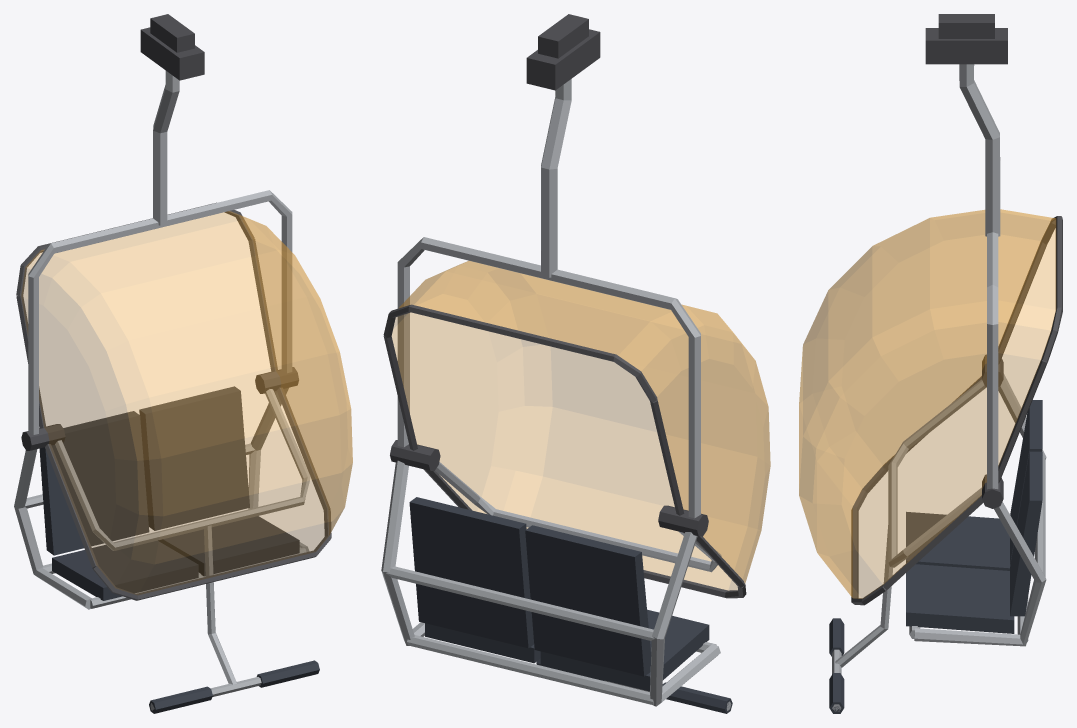
The model's file is chairlift-2.glb.
3 views of the same model, side by side, from view 1: azimuth 30°, elevation 25°; view 2: azimuth 150°, elevation 25°; view 3: azimuth 270°, elevation 25° (orthographic). The views are drawn at different scales.
Visible parts, largest first — view 1: Hood, Chair, SafetyBar; view 2: Hood, Chair, SafetyBar; view 3: Hood, Chair, SafetyBar.
Boxes of the visible parts, bbox=[...] form: Hood: bbox=[16, 202, 352, 600]; Chair: bbox=[14, 14, 309, 609]; SafetyBar: bbox=[55, 389, 319, 713]; Hood: bbox=[383, 261, 770, 598]; Chair: bbox=[381, 14, 720, 706]; SafetyBar: bbox=[435, 462, 732, 713]; Hood: bbox=[799, 209, 1062, 605]; Chair: bbox=[906, 14, 1046, 646]; SafetyBar: bbox=[829, 379, 986, 713].
Size of the model in its own units: 1.5 by 3.33 by 1.22.
